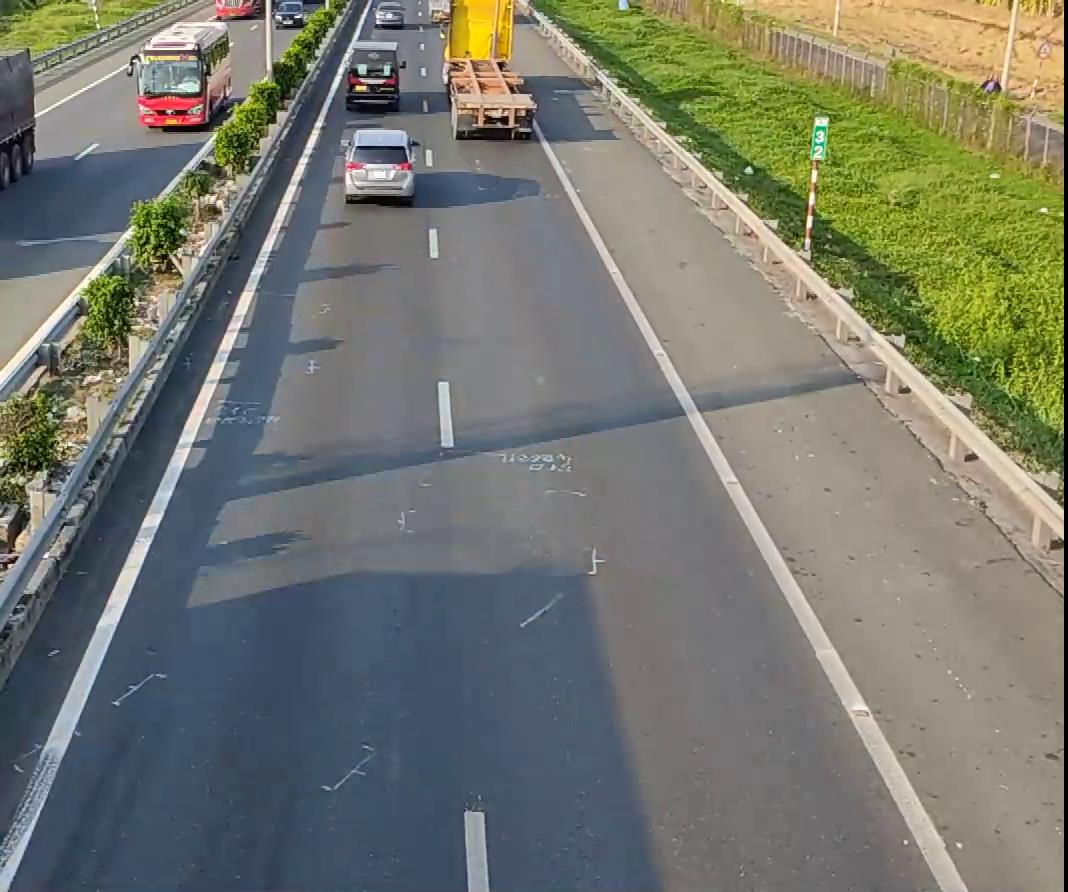bus: (132, 17, 234, 131)
car: (340, 127, 417, 202)
container: (440, 0, 535, 139)
truck: (0, 48, 36, 224)
